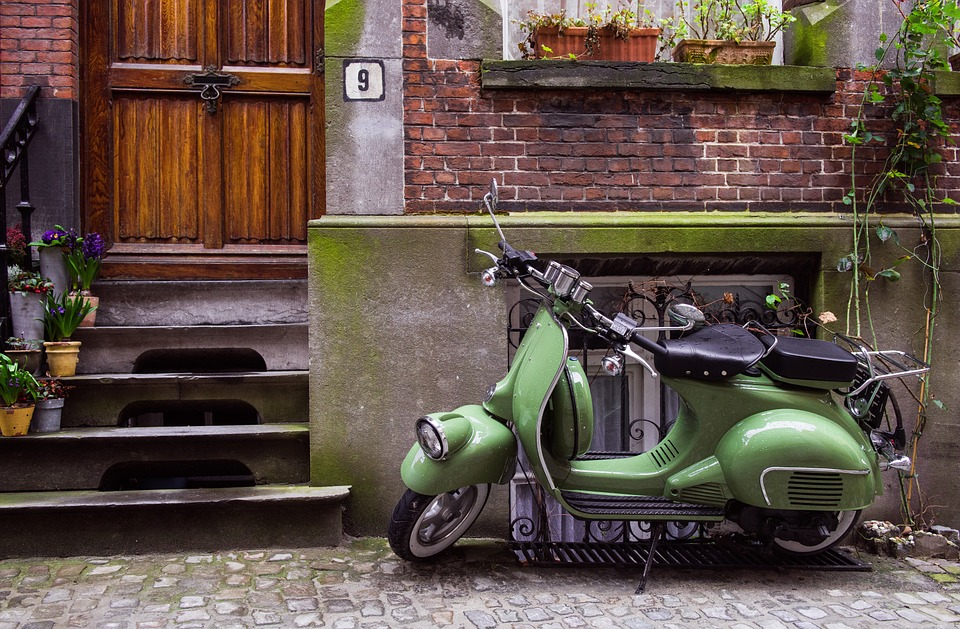motorcycle: (389, 283, 899, 611)
